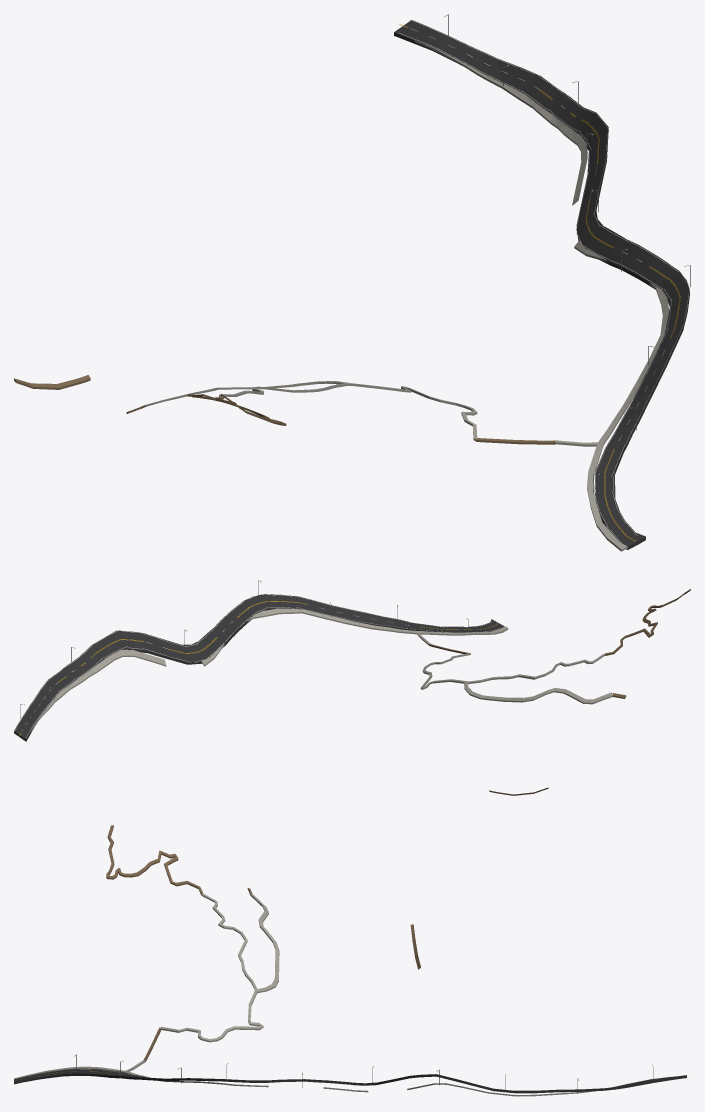
The picture shows the model from 3 angles, top to bottom: view 1: azimuth 30°, elevation 25°; view 2: azimuth 150°, elevation 25°; view 3: azimuth 270°, elevation 25°; orthographic projection. The views are drawn at different scales.
Bounding box in the file's own units: 228 × 65.6 × 293.
